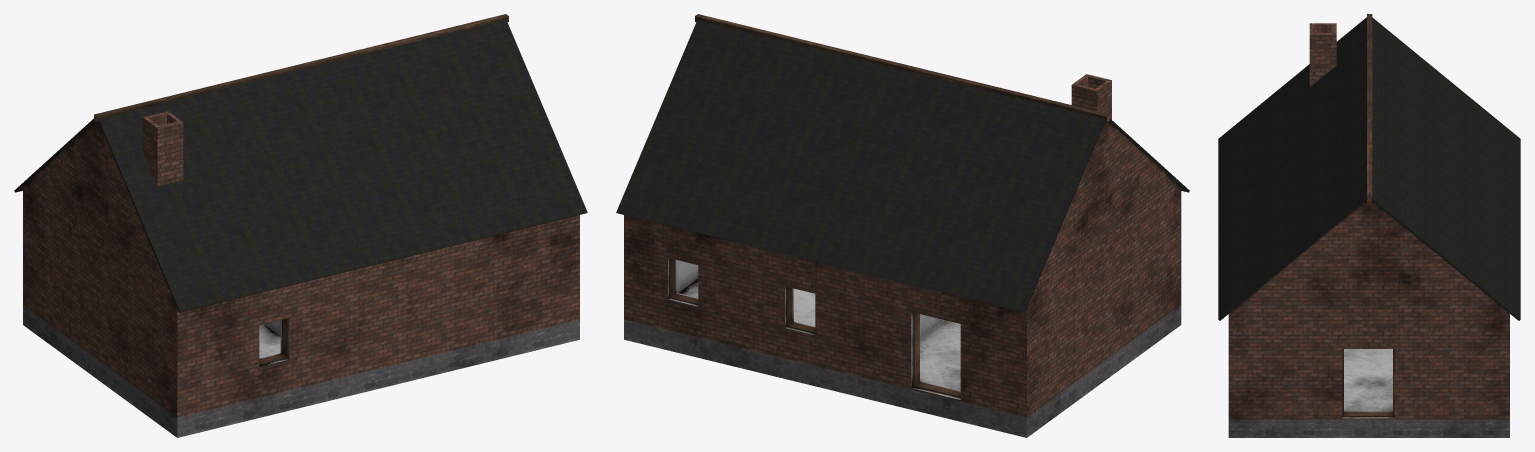
Rendered from villagehouse3.obj.
The picture shows the model from 3 angles, left to right: view 1: azimuth 30°, elevation 25°; view 2: azimuth 150°, elevation 25°; view 3: azimuth 270°, elevation 25°; orthographic projection. The views are drawn at different scales.
Parts seen in each view (by area): view 1: Cube.029, Cube.005; view 2: Cube.029, Cube.005; view 3: Cube.029, Cube.005.
Part boxes in pixels (left/top/right/bottom): Cube.029: left=14, top=14, right=587, bottom=365; Cube.005: left=23, top=121, right=579, bottom=437; Cube.029: left=616, top=14, right=1189, bottom=397; Cube.005: left=624, top=121, right=1181, bottom=437; Cube.029: left=1218, top=14, right=1520, bottom=416; Cube.005: left=1228, top=200, right=1509, bottom=437.
Bounding box in the file's own units: 12.47 × 7.84 × 8.7.
2 materials, 2 textured.
